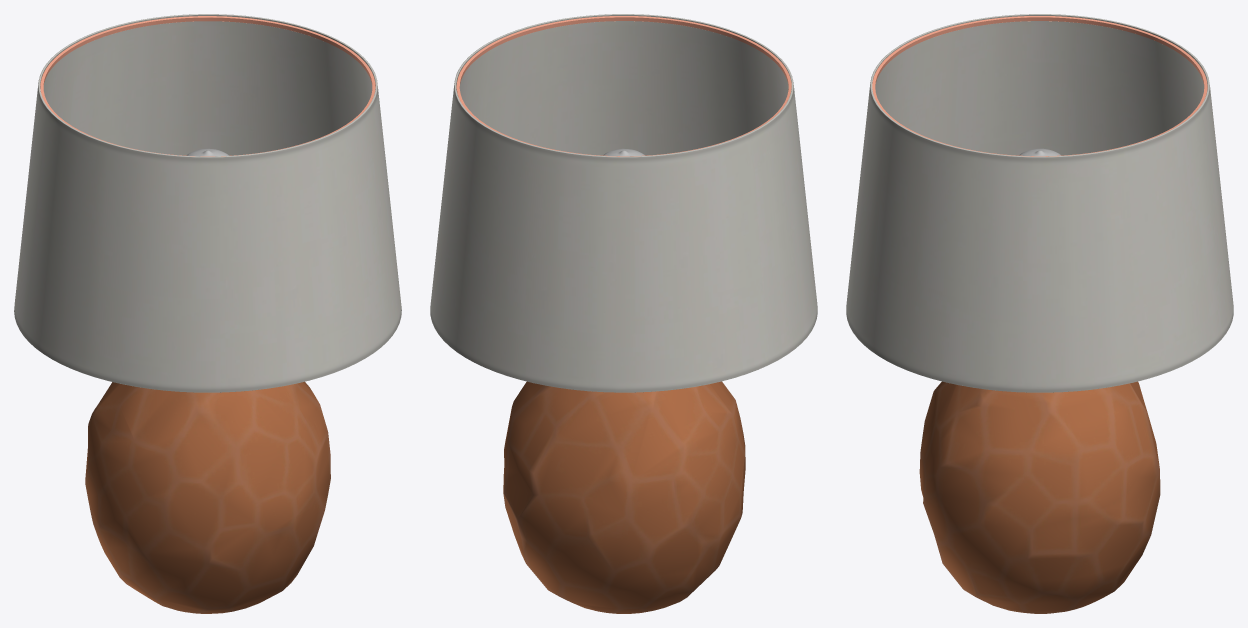
File: copper_geometric_table_lamp.glb
The picture shows the model from 3 angles, left to right: view 1: azimuth 30°, elevation 25°; view 2: azimuth 150°, elevation 25°; view 3: azimuth 270°, elevation 25°; orthographic projection.
Parts seen in each view (by area): view 1: RootNode; view 2: RootNode; view 3: RootNode.
Part boxes in pixels (x1,y1,x2,y2): RootNode: (14, 14, 401, 613); RootNode: (430, 14, 817, 613); RootNode: (846, 14, 1233, 613).
Size of the model in its own units: 0.3005 by 0.4314 by 0.3005.
1 material, 1 textured.
